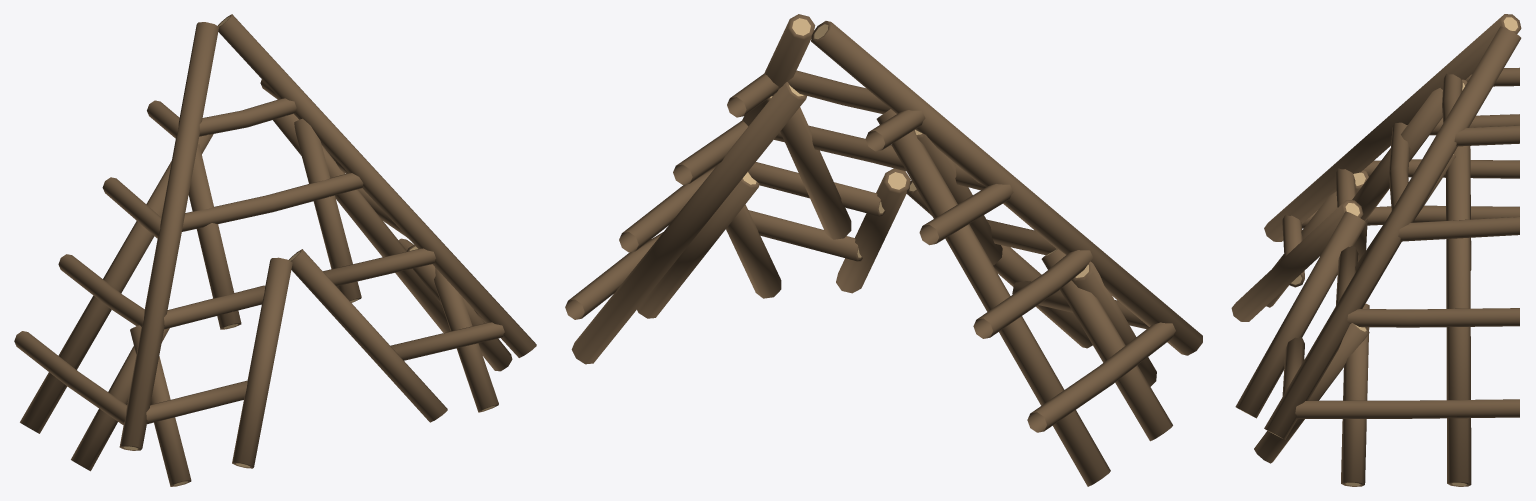
The model's file is rpgpp_ag_roof_support_01_6x5x3_roof_01_end_03.fbx.
3 renders of one model, left to right at view 1: azimuth 30°, elevation 25°; view 2: azimuth 150°, elevation 25°; view 3: azimuth 270°, elevation 25°, orthographic. The views are drawn at different scales.
Visible parts, largest first — view 1: rpgpp_ag_roof_support_01_6x5x3_roof_01_end_03; view 2: rpgpp_ag_roof_support_01_6x5x3_roof_01_end_03; view 3: rpgpp_ag_roof_support_01_6x5x3_roof_01_end_03.
Boxes of the visible parts, x1,y1,x2,y2 form: rpgpp_ag_roof_support_01_6x5x3_roof_01_end_03: (14,14,536,486); rpgpp_ag_roof_support_01_6x5x3_roof_01_end_03: (565,14,1202,486); rpgpp_ag_roof_support_01_6x5x3_roof_01_end_03: (1231,14,1521,486).
Size of the model in its own units: 6.94 by 5.28 by 3.82.
